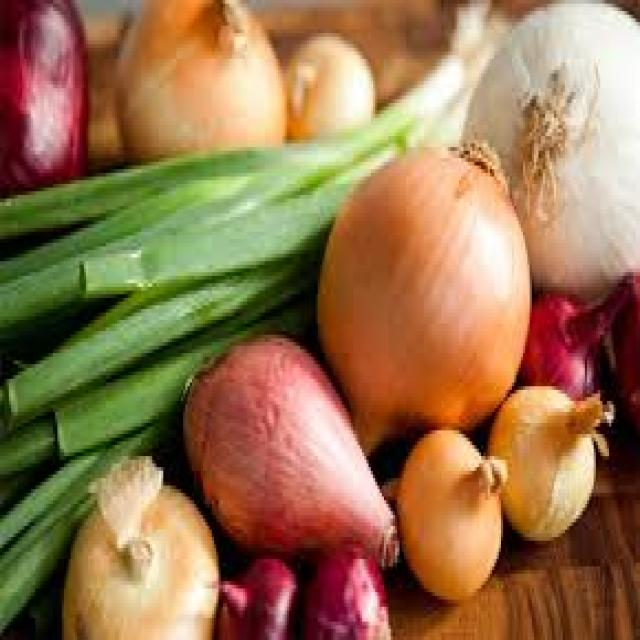Onion: (298, 120, 512, 463), (178, 303, 406, 583), (451, 1, 640, 305), (113, 0, 308, 189), (51, 447, 234, 640), (376, 404, 527, 595), (488, 360, 591, 578), (275, 13, 374, 154)
